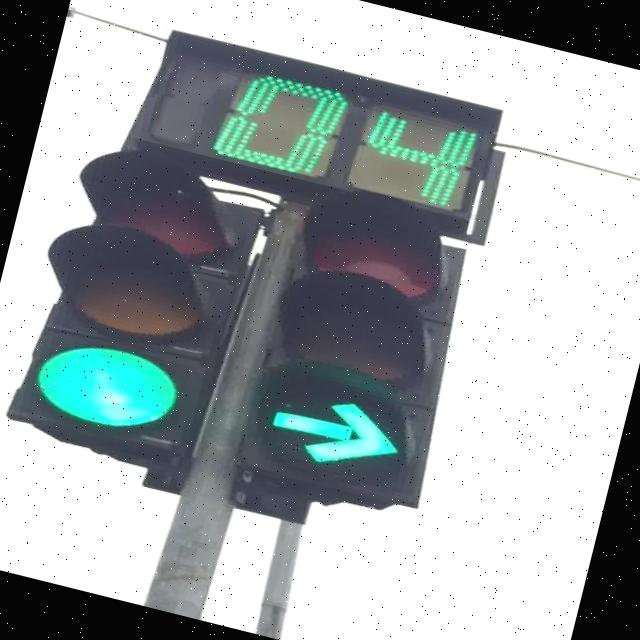green_light: (2, 132, 270, 464), (230, 174, 488, 508)
